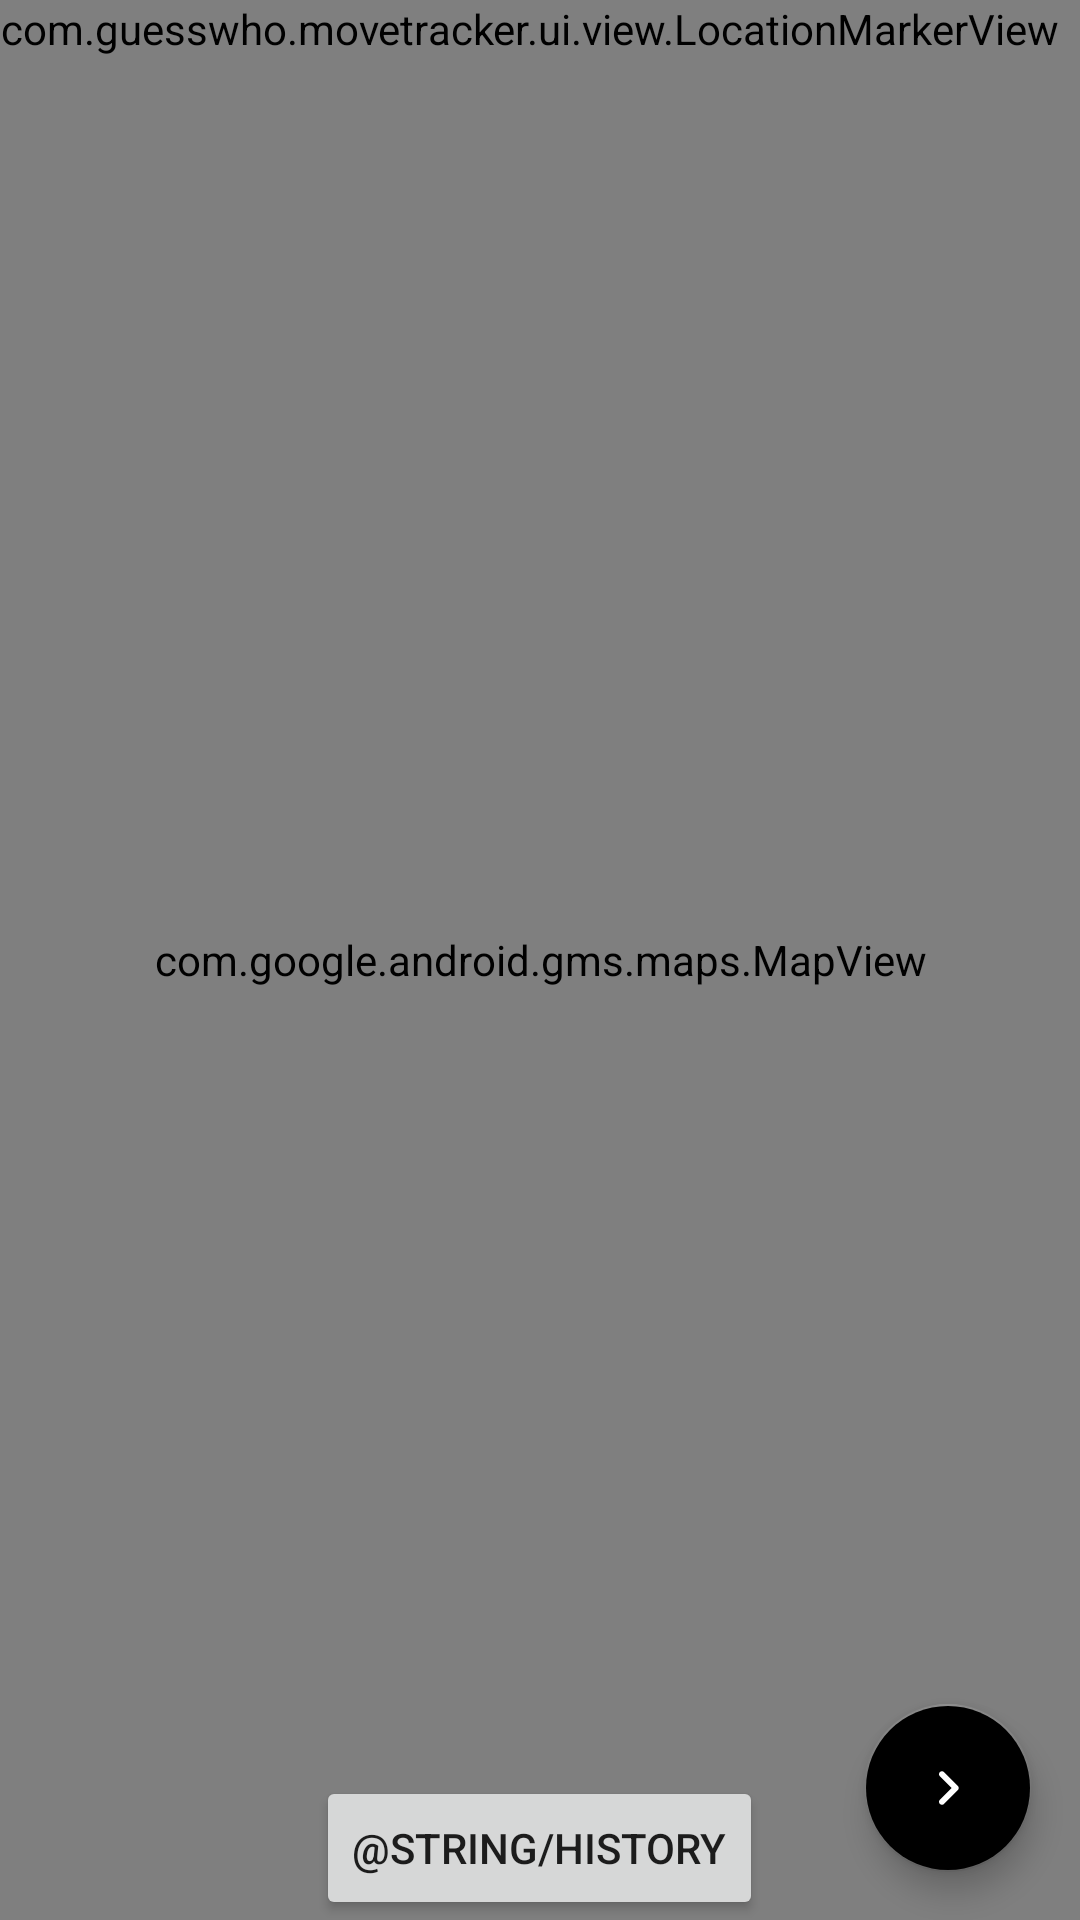

Named icons in this screenshot (1080 × 1920) and their centers, (x=x, y=y):
start: (x=948, y=1789)
